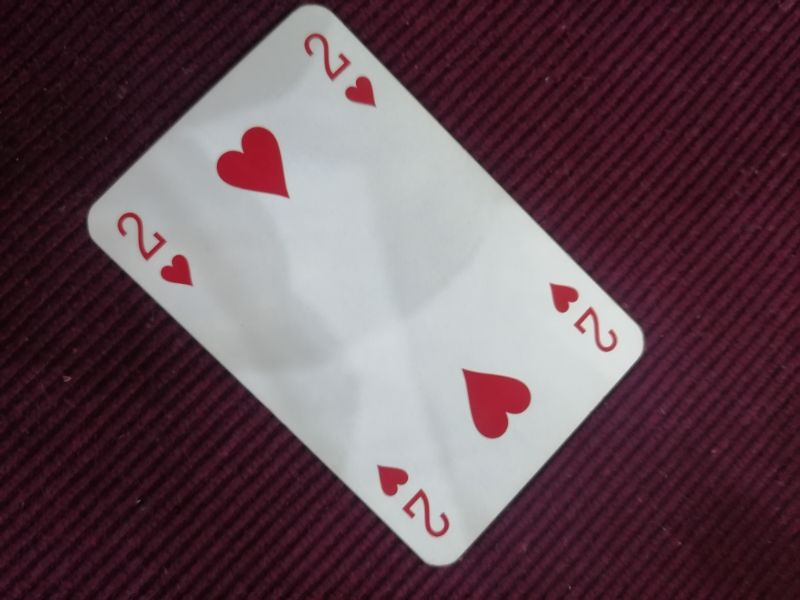2h: (113, 210, 199, 291), (372, 457, 454, 540), (300, 30, 383, 111), (545, 279, 622, 358)
